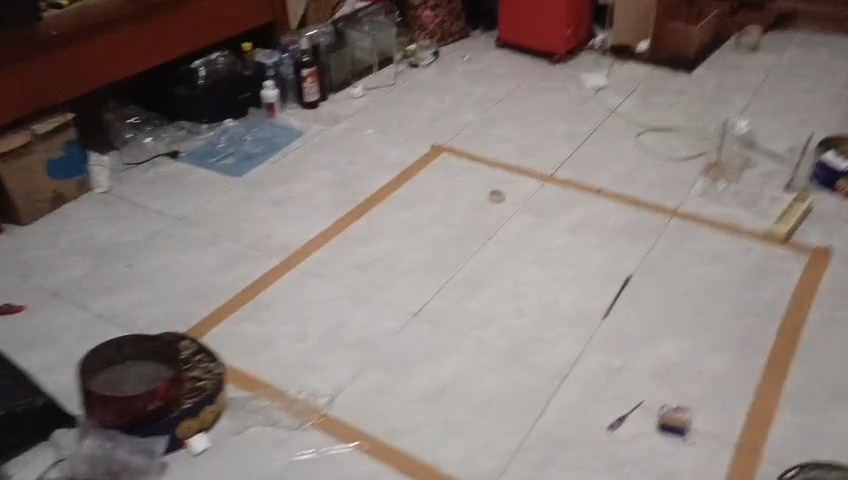floor marking: (188, 145, 831, 479), (315, 415, 454, 479), (227, 368, 311, 409)
